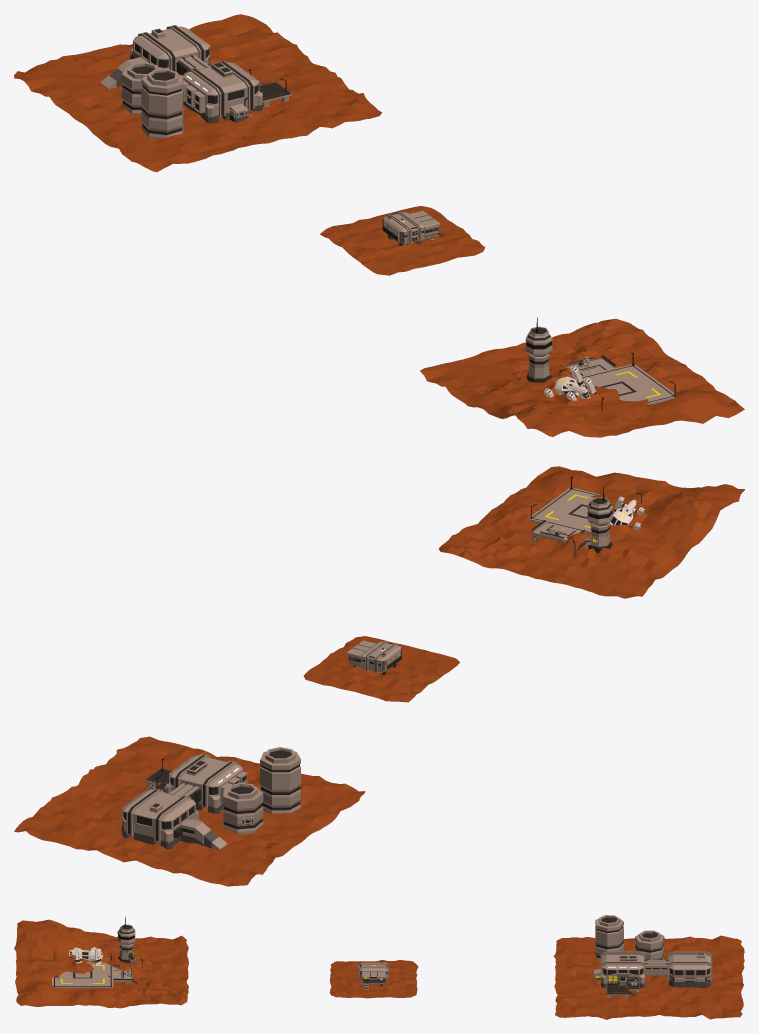
Rendered from Buildings-transformed.glb.
The picture shows the model from 3 angles, top to bottom: view 1: azimuth 30°, elevation 25°; view 2: azimuth 150°, elevation 25°; view 3: azimuth 270°, elevation 25°; orthographic projection. The views are drawn at different scales.
Visible parts, largest first — view 1: Plane.003, Plane.004, Cube.005, Plane, Cube.014, Cube.018, Cube, Cylinder, Cube.013, Cube.022; view 2: Plane.004, Plane.003, Cube.005, Plane, Cube.014, Cube.018, Cube.013, Cube, Cylinder; view 3: Plane.004, Plane.003, Cube.005, Plane, Cube.018, Cube.014, Cube.013, Cube, Cylinder, Cube.022.
Boxes of the visible parts, x1,y1,x2,y2 form: Plane.003: (14, 14, 382, 172); Plane.004: (420, 318, 744, 437); Cube.005: (100, 25, 292, 123); Plane: (320, 206, 485, 275); Cube.014: (141, 69, 183, 138); Cube.018: (560, 355, 676, 404); Cube: (382, 210, 439, 245); Cylinder: (525, 317, 552, 382); Cube.013: (121, 62, 161, 113); Cube.022: (543, 366, 597, 400); Plane.004: (438, 466, 744, 598); Plane.003: (14, 736, 365, 886); Cube.005: (121, 754, 247, 849); Plane: (303, 636, 459, 702); Cube.014: (260, 747, 300, 813); Cube.018: (528, 488, 599, 541); Cube.013: (223, 782, 263, 834); Cube: (347, 640, 401, 674); Cylinder: (584, 487, 613, 553); Plane.004: (14, 919, 188, 1008); Plane.003: (553, 935, 744, 1019); Cube.005: (593, 951, 712, 999); Plane: (329, 960, 418, 998); Cube.018: (52, 962, 132, 988); Cube.014: (595, 915, 623, 960); Cube.013: (635, 930, 664, 959); Cube: (358, 961, 388, 986); Cylinder: (117, 916, 135, 962); Cube.022: (69, 947, 103, 965).
Size of the model in its own units: 6.03 by 1.85 by 23.05.
